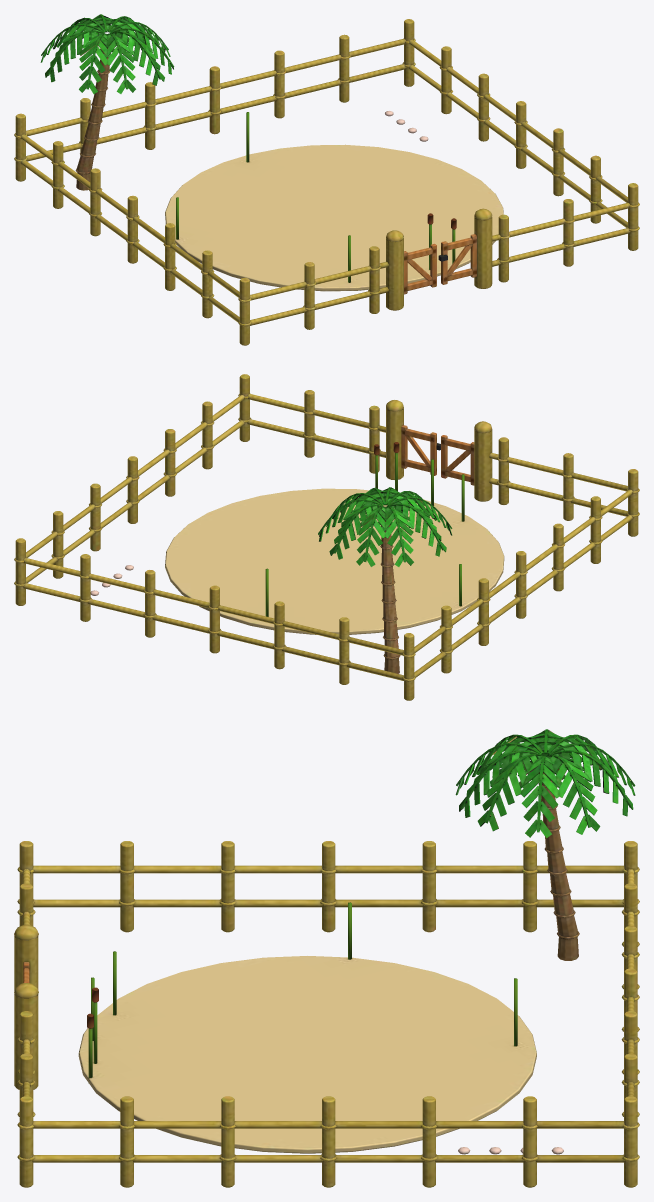
The model's file is flamingo_lagoon.glb.
3 views of the same model, one above another, from view 1: azimuth 30°, elevation 25°; view 2: azimuth 150°, elevation 25°; view 3: azimuth 270°, elevation 25° (orthographic). The views are drawn at different scales.
Visible parts, largest first — view 1: flamingo_lagoon, gate1, gate0; view 2: flamingo_lagoon, gate1, gate0; view 3: flamingo_lagoon.
Boxes of the visible parts, x1,y1,x2,y2 form: flamingo_lagoon: [14, 14, 639, 345]; gate1: [438, 234, 476, 284]; gate0: [404, 243, 436, 294]; flamingo_lagoon: [14, 374, 639, 700]; gate1: [401, 425, 440, 475]; gate0: [441, 435, 474, 485]; flamingo_lagoon: [14, 729, 639, 1187].
Size of the model in its own units: 2.99 by 1.16 by 3.
1 material, 1 textured.
